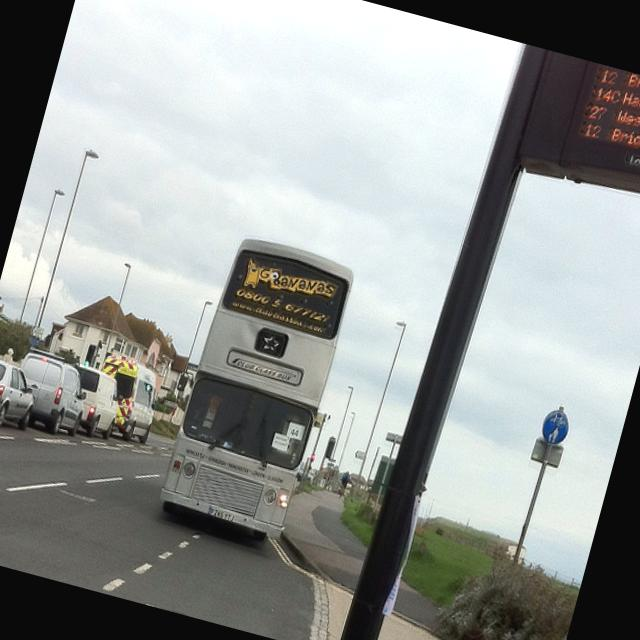Vehicle: (156, 231, 356, 542), (8, 347, 98, 436), (86, 350, 168, 446), (60, 366, 131, 444), (58, 363, 127, 441), (0, 351, 42, 434)
